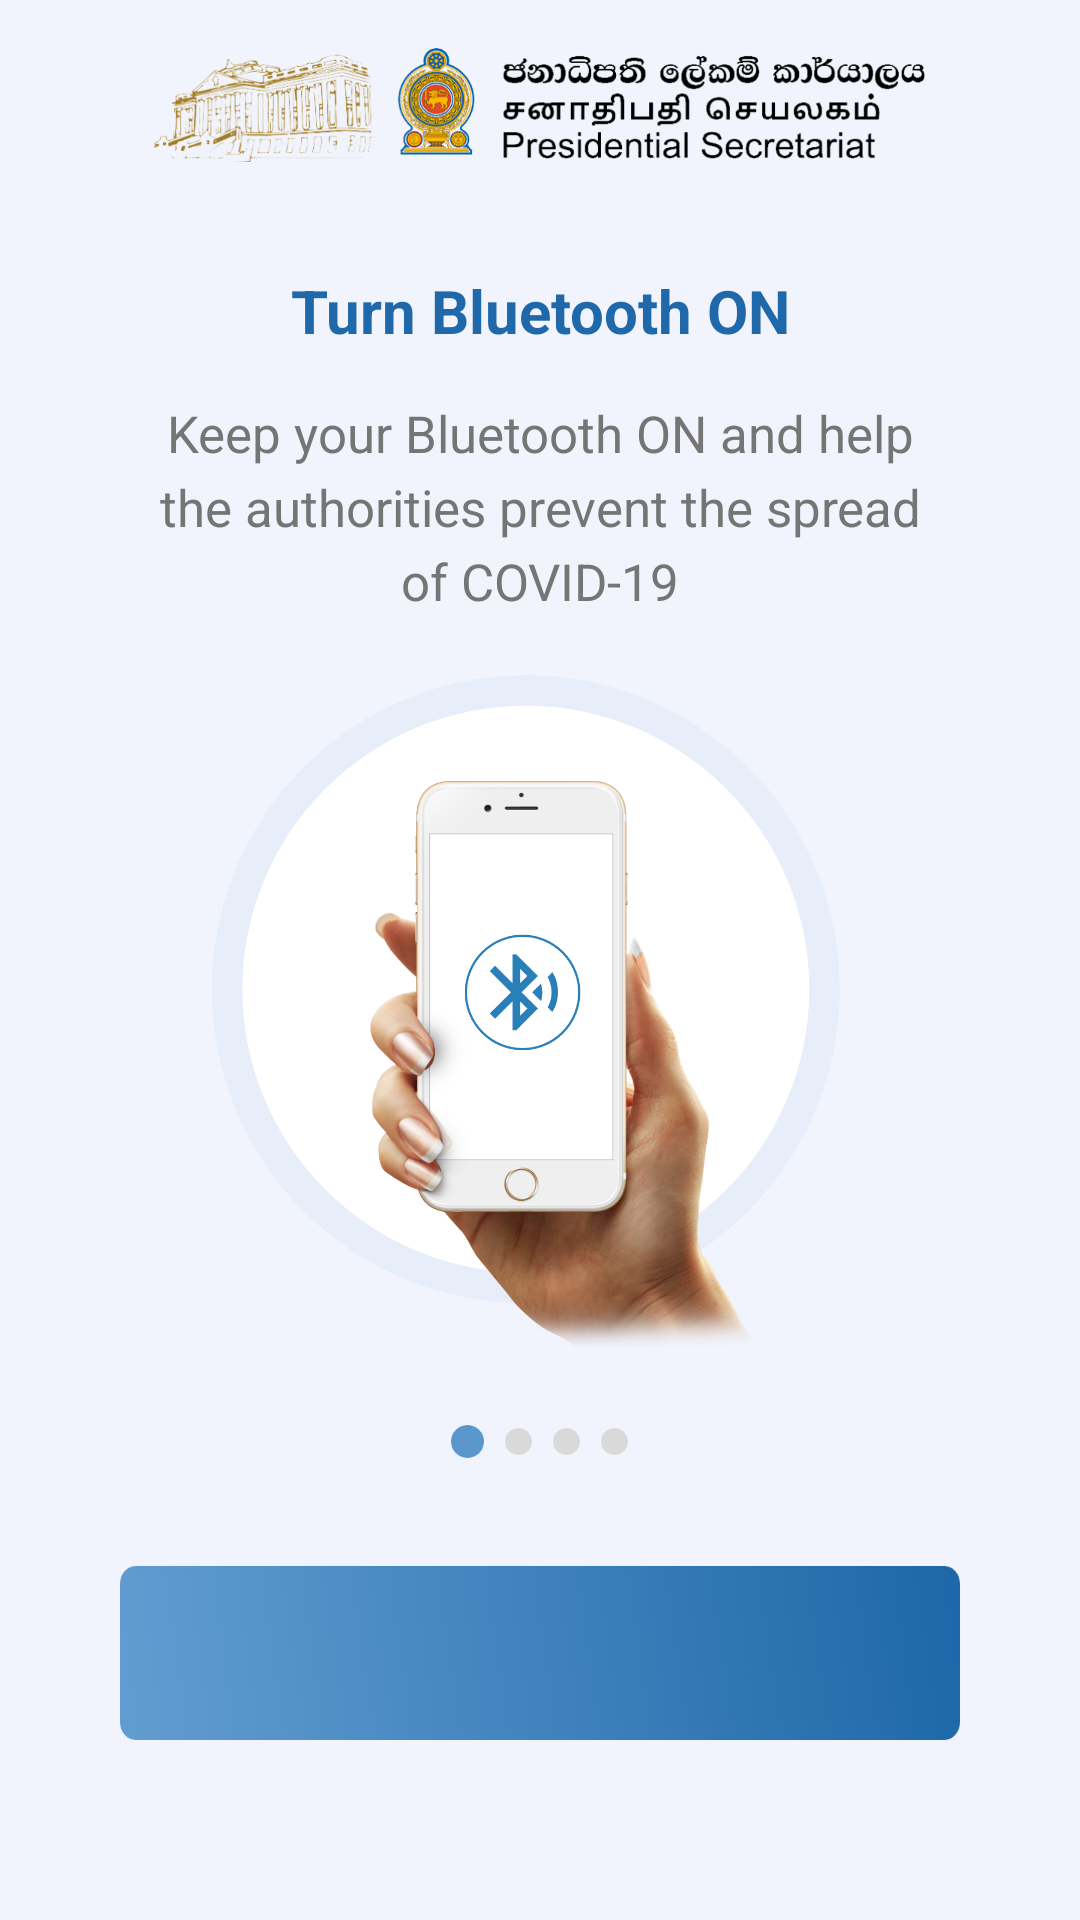

Named icons in this screenshot (1080x1920) and their bounding boxes, detection(x1, y1, x2, y2):
indicator: detection(451, 1425, 628, 1458)
